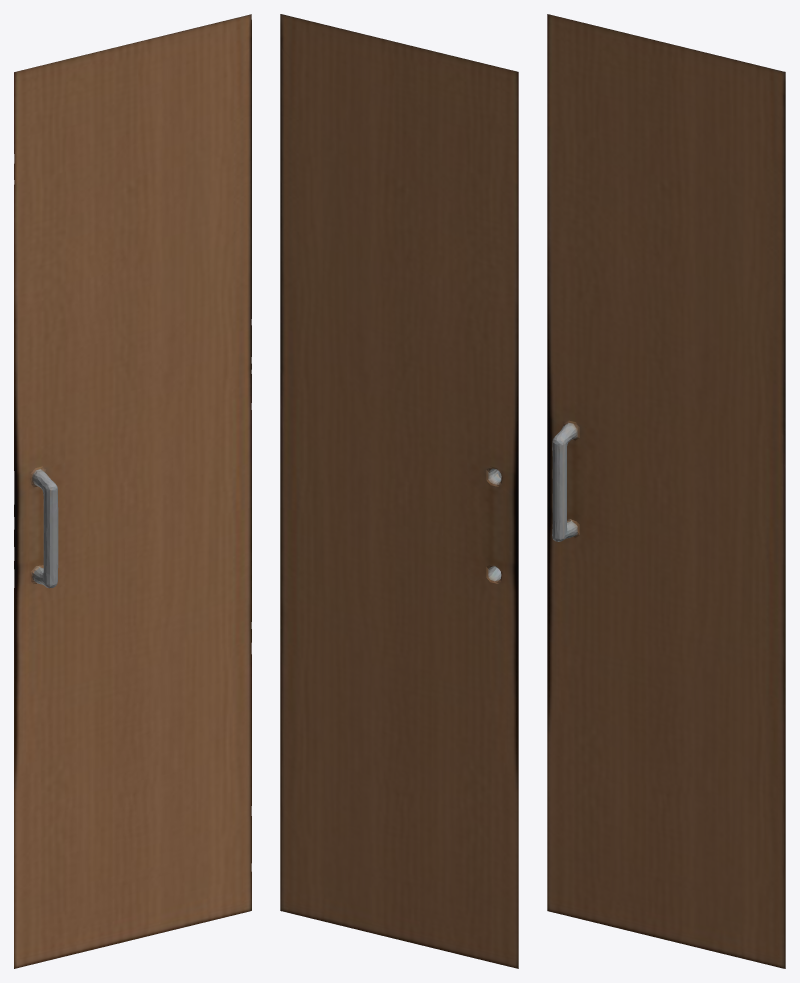
File: door_right.glb
3 renders of one model, left to right at view 1: azimuth 30°, elevation 25°; view 2: azimuth 150°, elevation 25°; view 3: azimuth 330°, elevation 25°, orthographic.
Visible parts, largest first — view 1: source_surface_0; view 2: source_surface_0; view 3: source_surface_0.
Part boxes in pixels (left/top/right/bottom): source_surface_0: left=14, top=14, right=251, bottom=968; source_surface_0: left=280, top=14, right=518, bottom=968; source_surface_0: left=547, top=14, right=785, bottom=968.
Bounding box in the file's own units: 0.8362 × 3.01 × 0.0988.
Materials: 1 (1 with a texture image).
